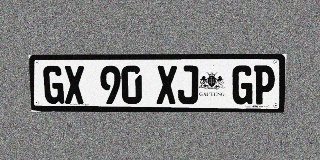0: (121, 65, 142, 104)
9: (100, 65, 121, 104)
G: (232, 65, 253, 104), (43, 66, 64, 104)
J: (178, 65, 198, 104)
P: (253, 65, 275, 104)
X: (156, 65, 177, 104), (64, 66, 85, 104)
